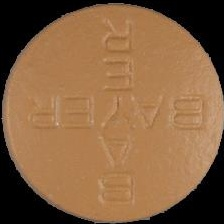0179-0102: (0, 0, 224, 224)
